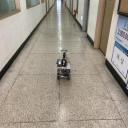cart: (56, 60, 71, 80)
